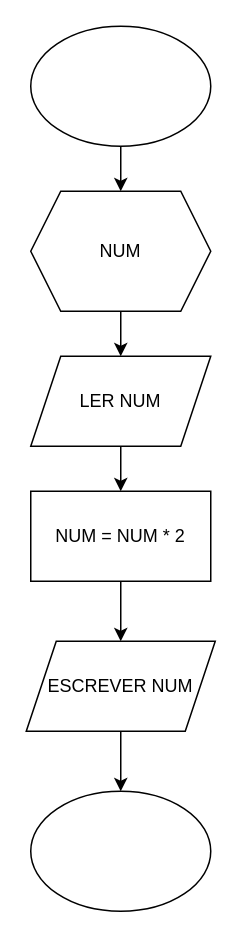
This 242x938 diagram has some shape labels left out. The shapes that lost their labels are listed below. From the top down, each one's centre as x and y in pixels, then its label:
the point at 120,85: INICIO
the point at 120,850: FIM
